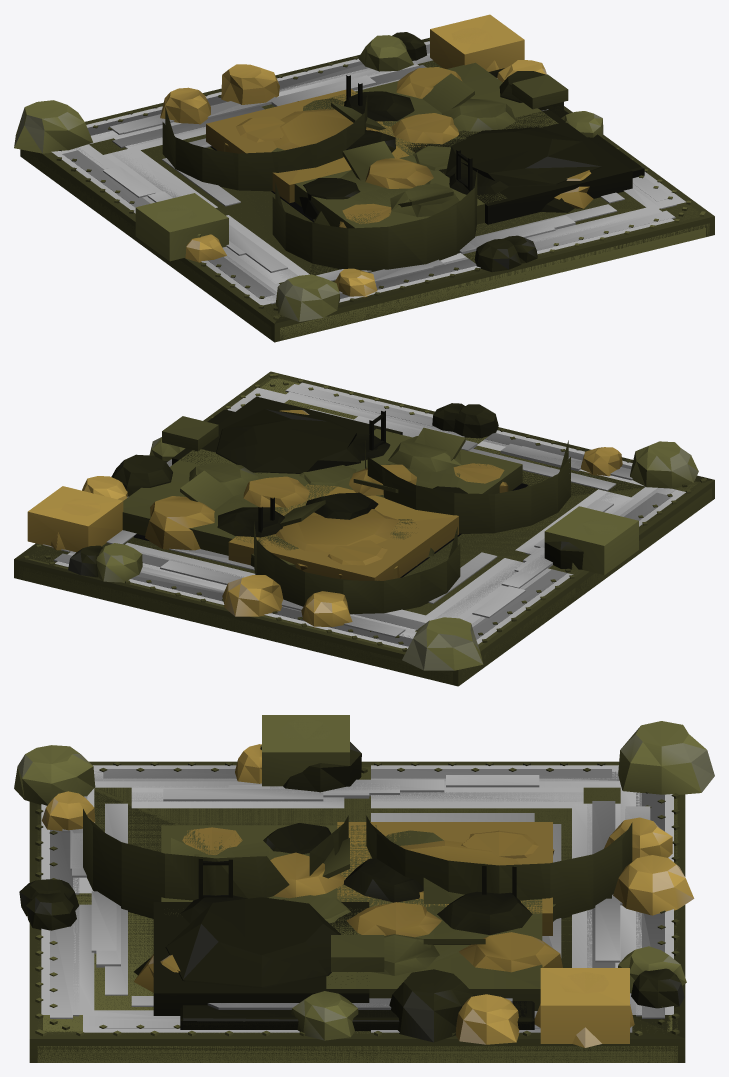
File: meridian_ore_silo_heavily_damaged.glb
The picture shows the model from 3 angles, top to bottom: view 1: azimuth 30°, elevation 25°; view 2: azimuth 150°, elevation 25°; view 3: azimuth 270°, elevation 25°; orthographic projection. The views are drawn at different scales.
Parts seen in each view (by area): view 1: body (×3); view 2: body (×3); view 3: body (×3).
Boxes of the visible parts, x1,y1,x2,y2 form: body (×3): (14,14,714,342); body (×3): (14,371,714,686); body (×3): (14,715,714,1062).
Bounding box in the file's own units: 7.91 × 1.16 × 7.91.
